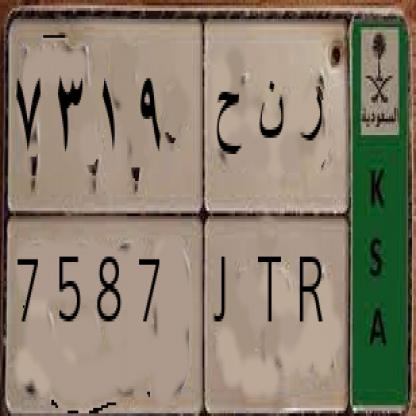english: (5, 209, 354, 409)
